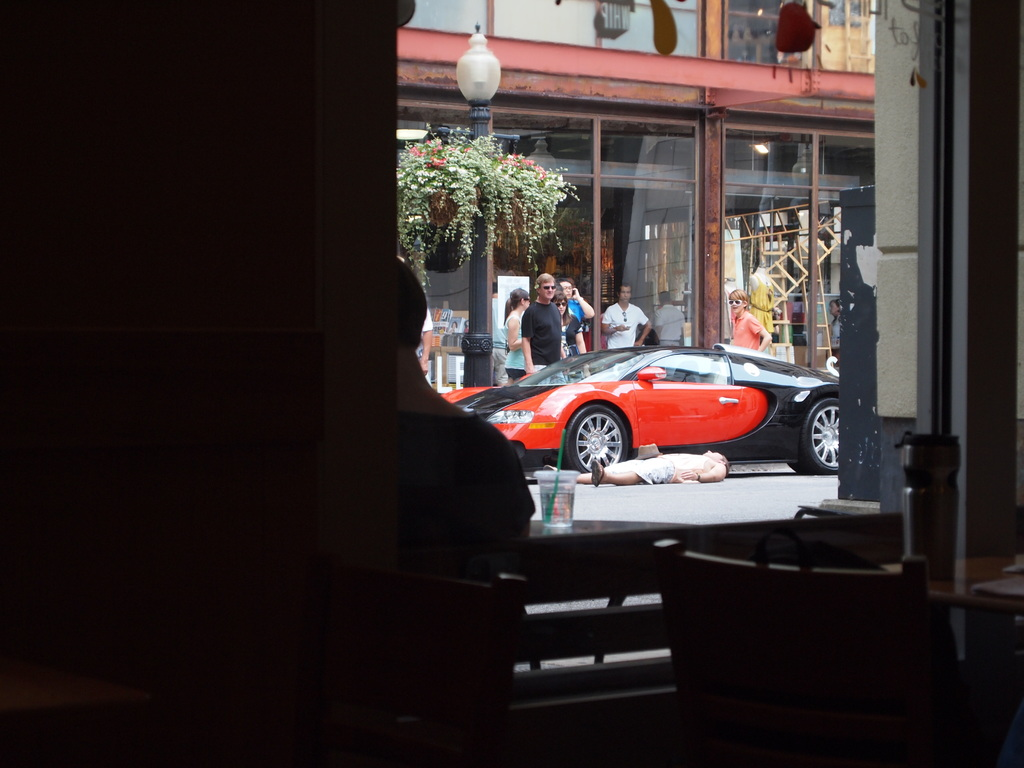Car: (441, 329, 837, 493)
